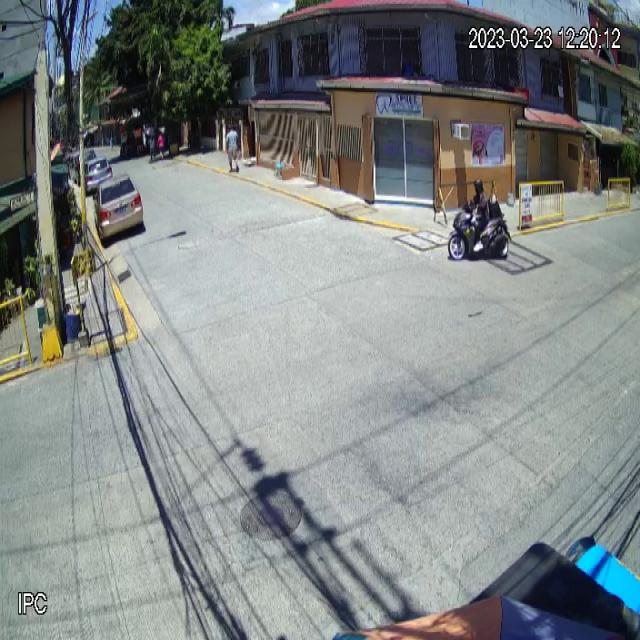Motorcycle: (448, 198, 512, 261)
